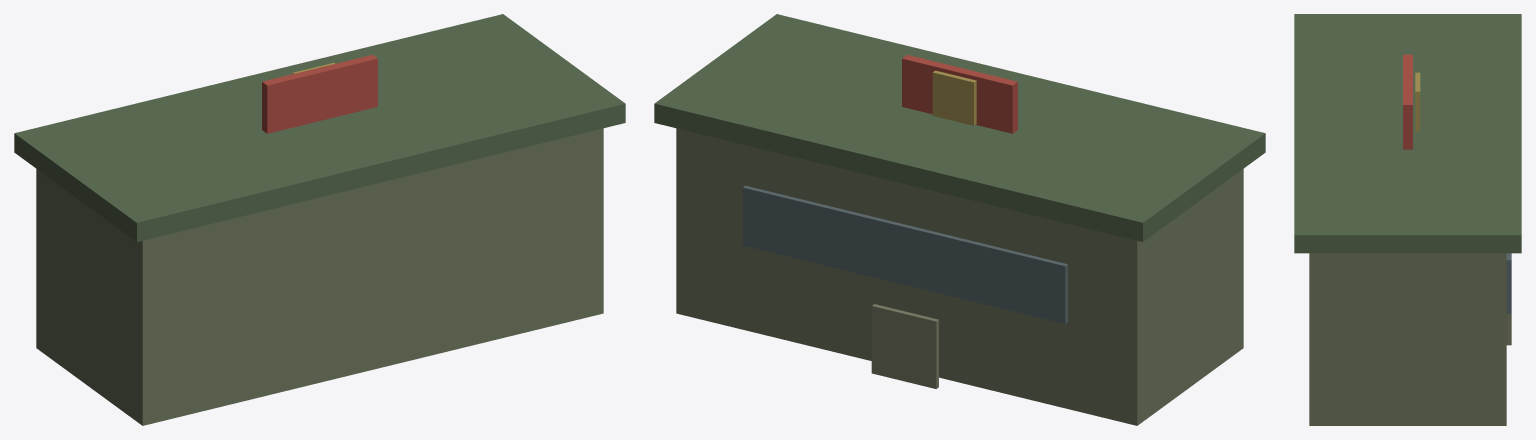
Rendered from b_kpp.glb.
The picture shows the model from 3 angles, left to right: view 1: azimuth 30°, elevation 25°; view 2: azimuth 150°, elevation 25°; view 3: azimuth 270°, elevation 25°; orthographic projection. The views are drawn at different scales.
Visible parts, largest first — view 1: body; view 2: body; view 3: body.
Part boxes in pixels (x1,y1,x2,y2): body: [14, 14, 625, 425]; body: [654, 14, 1265, 425]; body: [1294, 14, 1521, 425].
Size of the model in its own units: 10.6 by 5.6 by 4.6.
